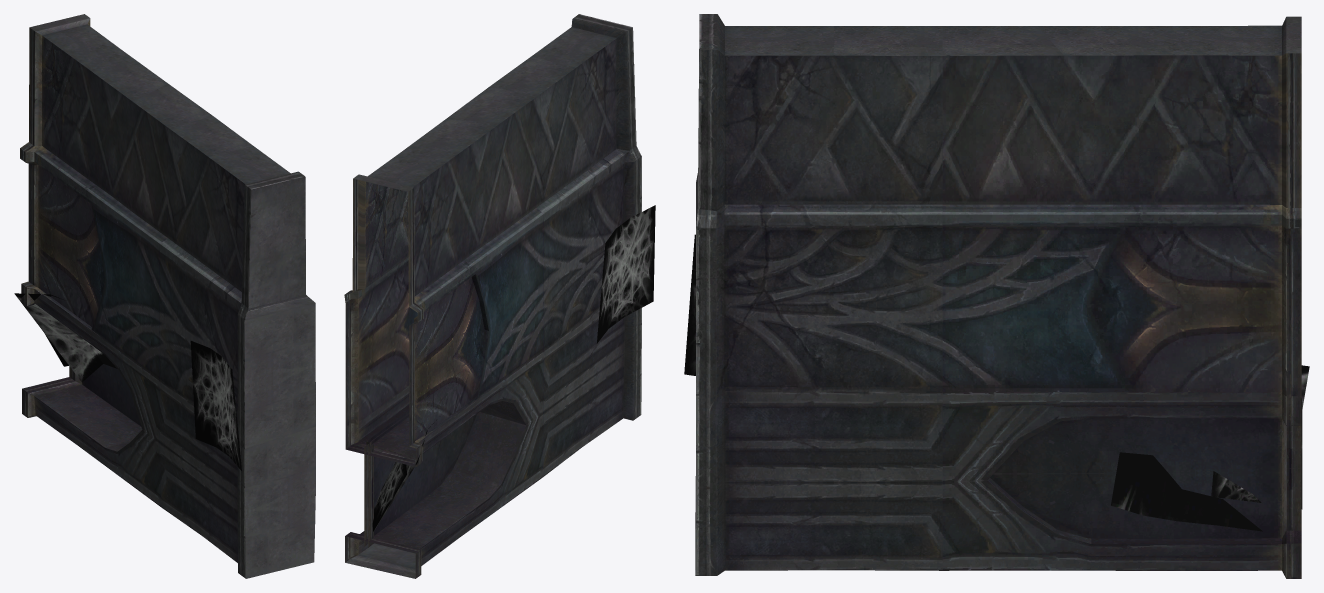
File: huodong_fuben_652_pingtai01_qiang01a.obj
3 views of the same model, side by side, from view 1: azimuth 30°, elevation 25°; view 2: azimuth 150°, elevation 25°; view 3: azimuth 270°, elevation 25° (orthographic). The views are drawn at different scales.
Parts seen in each view (by area): view 1: huodong_fuben_652_pingtai01_qiang01a; view 2: huodong_fuben_652_pingtai01_qiang01a; view 3: huodong_fuben_652_pingtai01_qiang01a.
Boxes of the visible parts, x1,y1,x2,y2 form: huodong_fuben_652_pingtai01_qiang01a: [14, 14, 315, 578]; huodong_fuben_652_pingtai01_qiang01a: [344, 14, 655, 578]; huodong_fuben_652_pingtai01_qiang01a: [684, 14, 1309, 578].
Bounding box in the file's own units: 237 × 948 × 1029.
3 materials, 3 textured.
